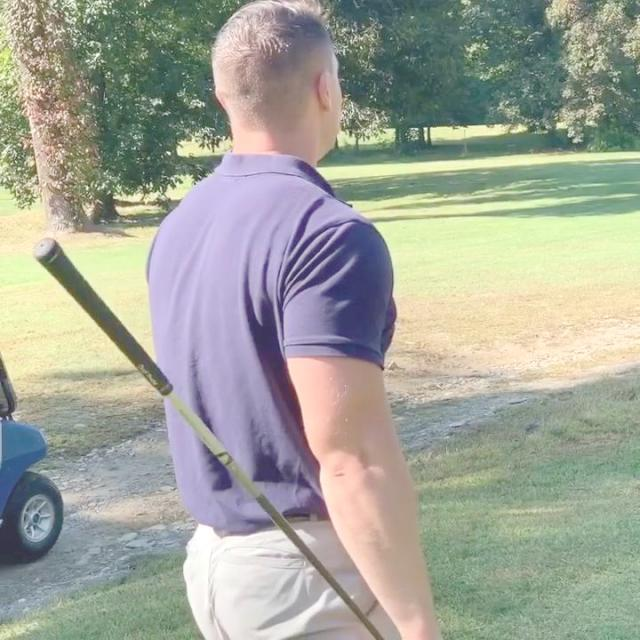golf club-handle: (28, 232, 383, 640)
